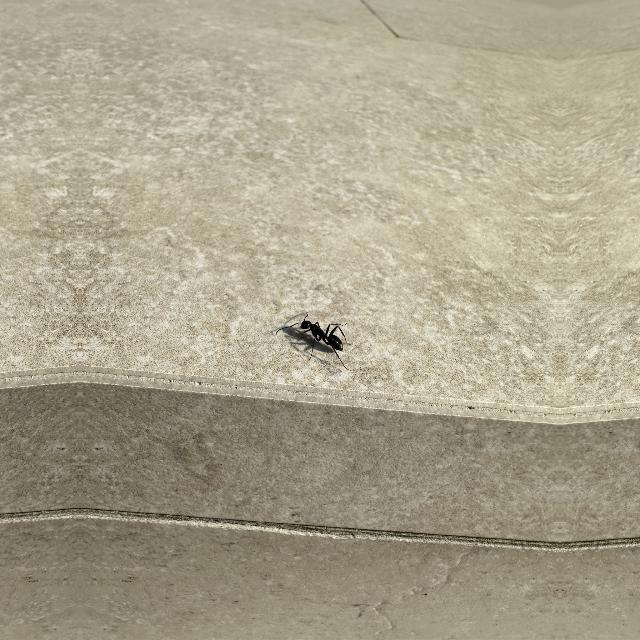Camponotus: (293, 308, 351, 367)
